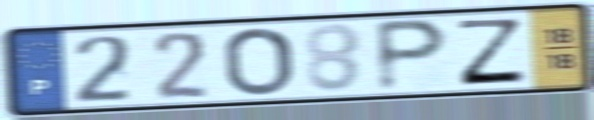2: (71, 33, 136, 106), (152, 29, 211, 101)
8: (303, 20, 368, 96)
O: (221, 25, 296, 98)
P: (372, 16, 453, 95)
Z: (456, 17, 530, 88)
